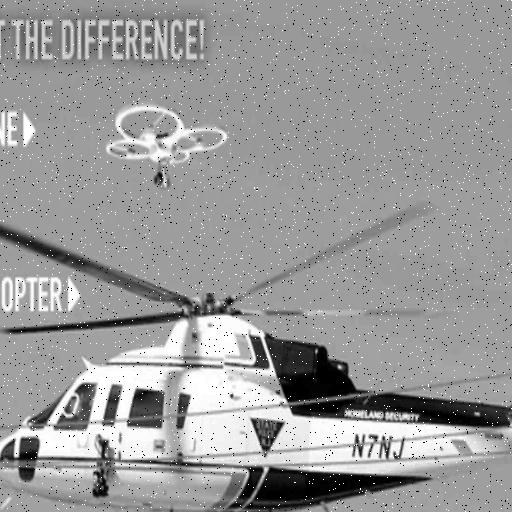helicopter: (1, 191, 512, 512)
